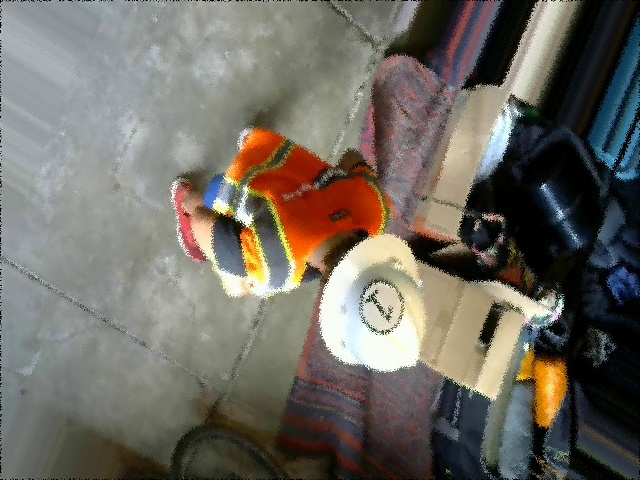one: (353, 273, 409, 342)
